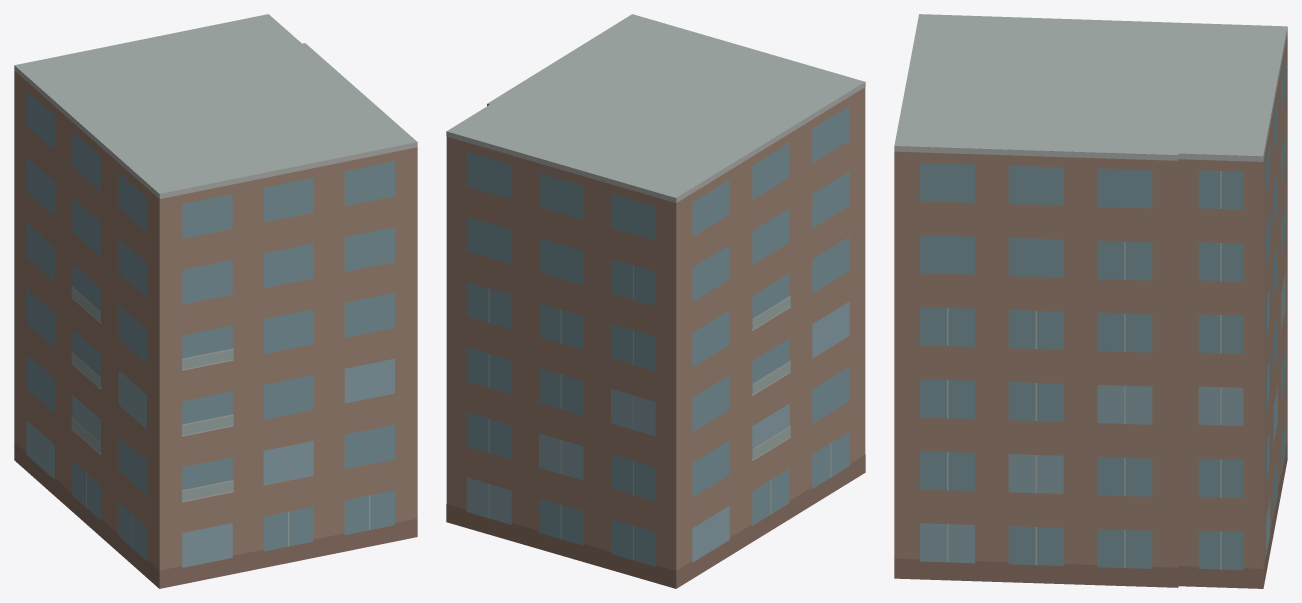
The model's file is survey-upis-32542781.glb.
The picture shows the model from 3 angles, left to right: view 1: azimuth 30°, elevation 25°; view 2: azimuth 150°, elevation 25°; view 3: azimuth 270°, elevation 25°; orthographic projection. The views are drawn at different scales.
Visible parts, largest first — view 1: survey-upis-32542781.tmp; view 2: survey-upis-32542781.tmp; view 3: survey-upis-32542781.tmp.
Boxes of the visible parts, x1,y1,x2,y2 form: survey-upis-32542781.tmp: (14,14,417,588); survey-upis-32542781.tmp: (446,14,865,588); survey-upis-32542781.tmp: (894,14,1287,588).
Bounding box in the file's own units: 13.13 × 18.6 × 15.34.
